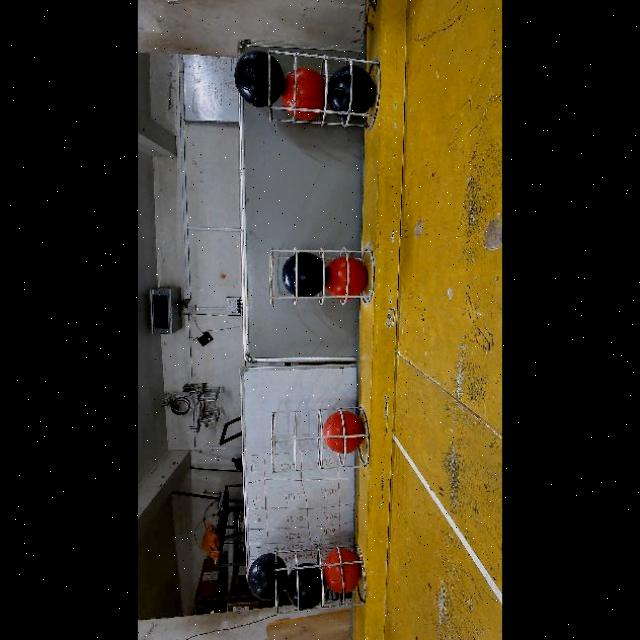P: (233, 50, 284, 107), (327, 62, 373, 117), (246, 553, 287, 601), (281, 252, 323, 296), (285, 562, 322, 610)
R: (281, 66, 326, 120), (326, 257, 367, 300), (322, 411, 363, 454), (322, 548, 359, 593)
S: (269, 49, 375, 119), (266, 240, 378, 306), (272, 548, 364, 606), (268, 412, 368, 462)
